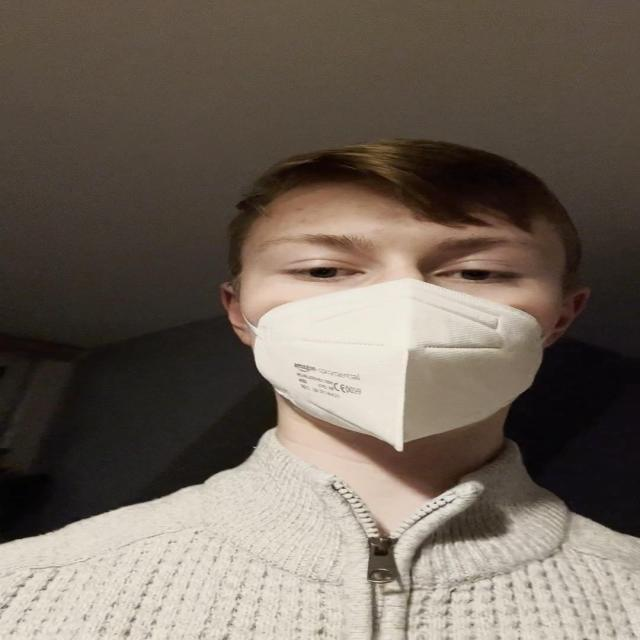no-helmet: (242, 180, 572, 450)
